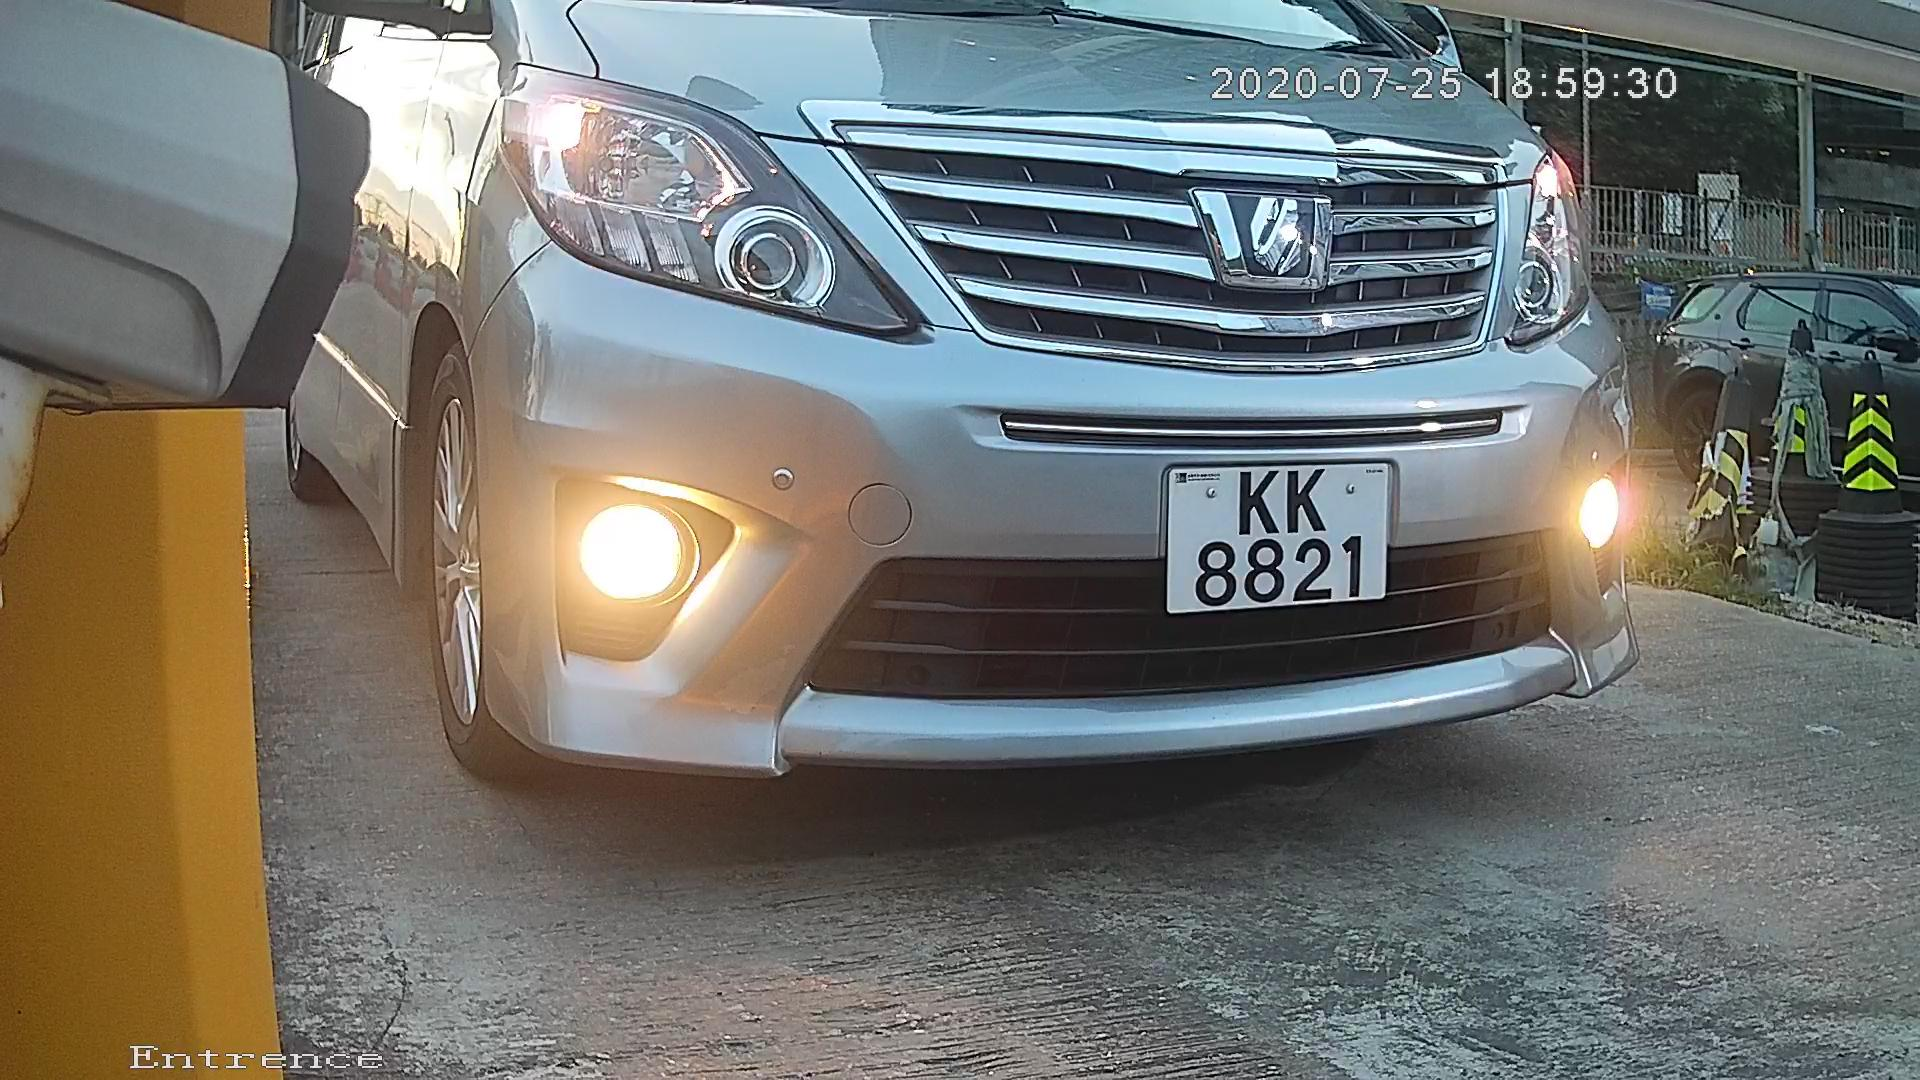License Plate: (1141, 439, 1398, 627)
